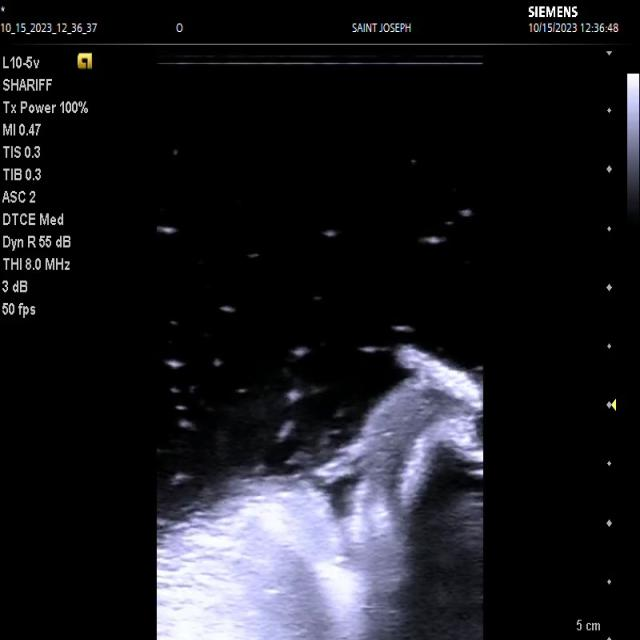tissue: (157, 347, 483, 640)
